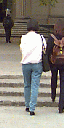person: (20, 21, 43, 118)
